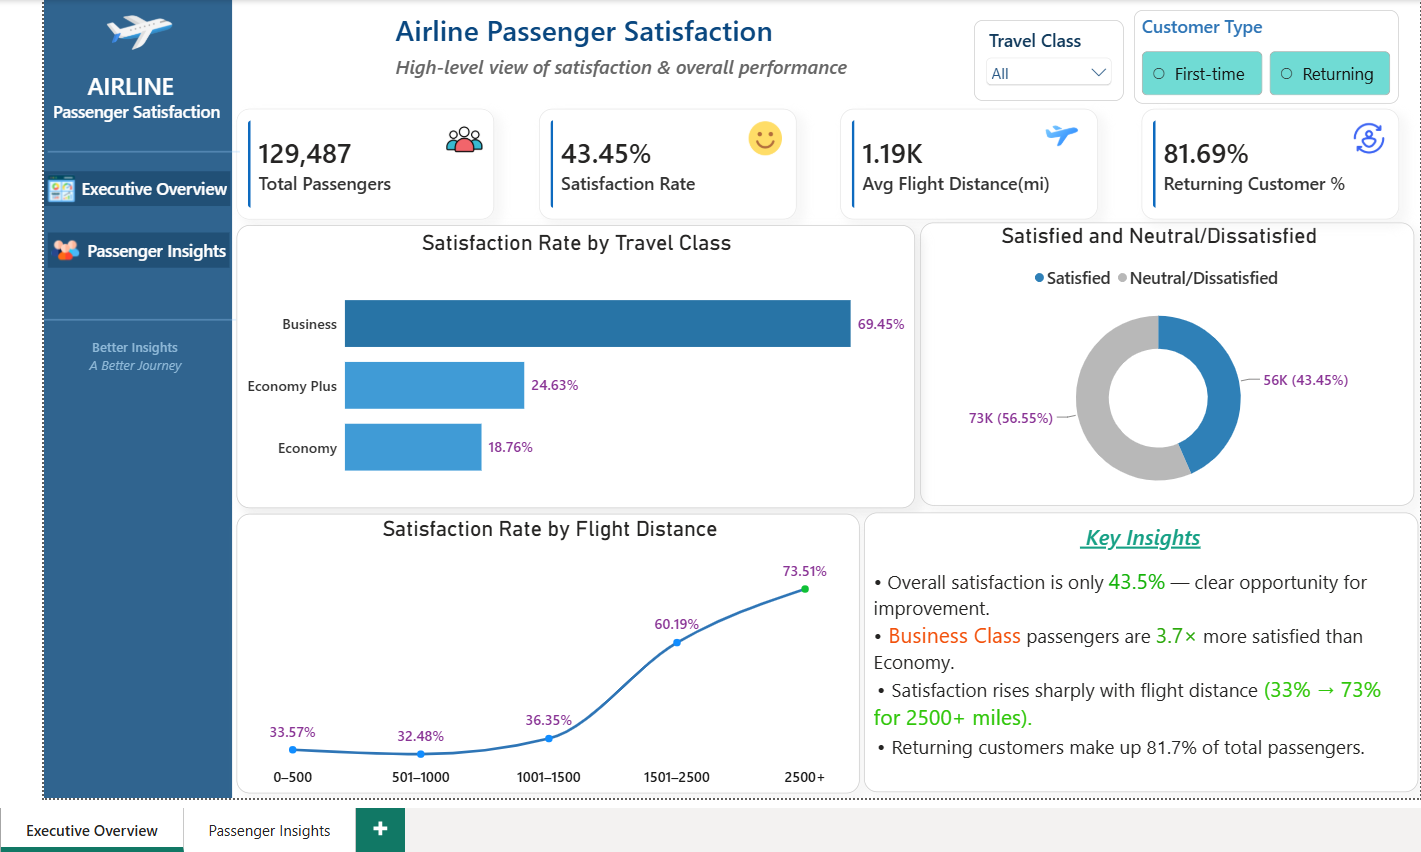

The page's visual inventory and layout, read from the dashboard file:
{"tool":"powerbi","page":{"name":"Executive Overview","canvas":[1550,900],"ordinal":0},"visuals":[{"type":"cardVisual","fields":{"Data":["_Measures.Total Passengers"]},"box":[217,122.6,290,125],"z":0},{"type":"cardVisual","fields":{"Data":["_Measures.Satisfaction Rate"]},"box":[557.9,122.6,290,125],"z":1000},{"type":"cardVisual","fields":{"Data":["_Measures.Avg Flight Distance"]},"box":[897.5,122.6,290,125],"z":2000},{"type":"cardVisual","fields":{"Data":["_Measures.Avg Flight Distance"]},"box":[584.7,279,262.8,121],"z":3000},{"type":"donutChart","fields":{"Y":["_Measures.Satisfied","_Measures.Neutral/Dissatisfied"]},"box":[987.6,250.8,557,319],"z":4000},{"type":"textbox","box":[332.5,7,670.6,88],"z":5000},{"type":"shape","box":[0,0,212,900.3],"z":6000},{"type":"textbox","box":[0,73.9,216.5,81.5],"z":7000},{"type":"shape","box":[3.8,149,216.5,43.3],"z":8000},{"type":"actionButton","box":[0,193,210,39.5],"z":9000},{"type":"actionButton","box":[4.6,261.4,204.8,39.7],"z":10000},{"type":"shape","box":[0,337.6,216.5,44.6],"z":11000},{"type":"textbox","box":[14,375.8,202.5,59.9],"z":12000},{"type":"image","box":[49.7,0,117.2,73.9],"z":13000},{"type":"image","box":[791.8,136.7,42,38],"z":14000},{"type":"image","box":[1121.5,133.8,51,38],"z":15000},{"type":"slicer","fields":{"Values":["airline_satisfaction.Age_Group"]},"box":[1048.2,22.5,169.1,91.4],"z":16000},{"type":"advancedSlicerVisual","title":"Customer Type","fields":{"Values":["airline_satisfaction.customer_type"]},"box":[1228.6,11.3,298.7,105.7],"z":17000},{"type":"clusteredBarChart","title":"Satisfaction Rate by Travel Class","fields":{"Category":["airline_satisfaction.travel_class"],"Y":["_Measures.satisfaction Rate"]},"box":[217.1,253.7,765,319],"z":18000},{"type":"lineChart","title":"Satisfaction Rate by Flight Distance","fields":{"Category":["airline_satisfaction.Flight Distance Bucket"],"Y":["_Measures.satisfaction Rate"]},"box":[217,579.1,702,315],"z":19000},{"type":"cardVisual","fields":{"Data":["_Measures.Returning Customer %"]},"box":[1237,122.6,290,125],"z":20000},{"type":"textbox","box":[924.8,577.8,625.2,315],"z":21000},{"type":"image","box":[1469.5,136.7,48,38],"z":22000},{"type":"image","box":[449.4,136.7,49,41],"z":23000}]}

Visuals, with their boxes on the page's 1550x900 design canvas (x1, y1, x2, y2). These are canvas units, not pixel positions in the 1421x852 screenshot, which may show the page scaled, cropped or inside an application window:
cardVisual - _Measures.Total Passengers: <bbox>217, 123, 507, 248</bbox>
cardVisual - _Measures.Satisfaction Rate: <bbox>558, 123, 848, 248</bbox>
cardVisual - _Measures.Avg Flight Distance: <bbox>898, 123, 1188, 248</bbox>
cardVisual - _Measures.Avg Flight Distance: <bbox>585, 279, 848, 400</bbox>
donutChart - _Measures.Satisfied x _Measures.Neutral/Dissatisfied: <bbox>988, 251, 1545, 570</bbox>
textbox: <bbox>332, 7, 1003, 95</bbox>
shape: <bbox>0, 0, 212, 900</bbox>
textbox: <bbox>0, 74, 216, 155</bbox>
shape: <bbox>4, 149, 220, 192</bbox>
actionButton: <bbox>0, 193, 210, 232</bbox>
actionButton: <bbox>5, 261, 209, 301</bbox>
shape: <bbox>0, 338, 216, 382</bbox>
textbox: <bbox>14, 376, 216, 436</bbox>
image: <bbox>50, 0, 167, 74</bbox>
image: <bbox>792, 137, 834, 175</bbox>
image: <bbox>1122, 134, 1172, 172</bbox>
slicer - airline_satisfaction.Age_Group: <bbox>1048, 22, 1217, 114</bbox>
"Customer Type" advancedSlicerVisual: <bbox>1229, 11, 1527, 117</bbox>
"Satisfaction Rate by Travel Class" clusteredBarChart: <bbox>217, 254, 982, 573</bbox>
"Satisfaction Rate by Flight Distance" lineChart: <bbox>217, 579, 919, 894</bbox>
cardVisual - _Measures.Returning Customer %: <bbox>1237, 123, 1527, 248</bbox>
textbox: <bbox>925, 578, 1550, 893</bbox>
image: <bbox>1470, 137, 1518, 175</bbox>
image: <bbox>449, 137, 498, 178</bbox>
